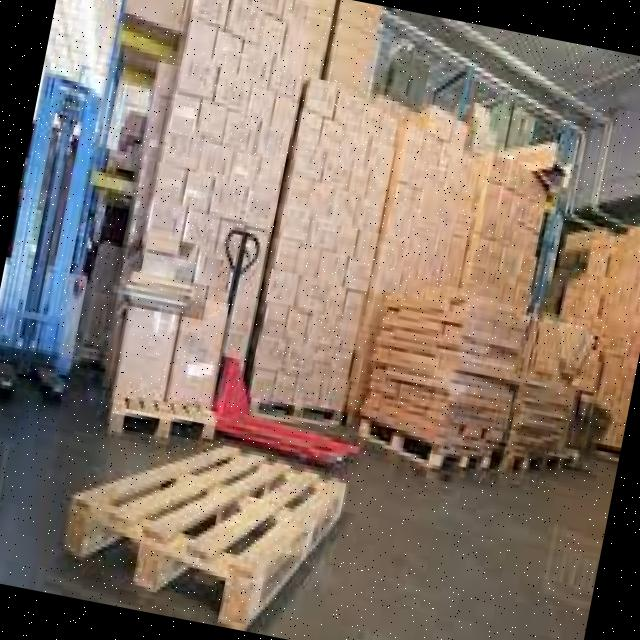Wooden-Pallets: (48, 412, 363, 640), (102, 388, 222, 451)
